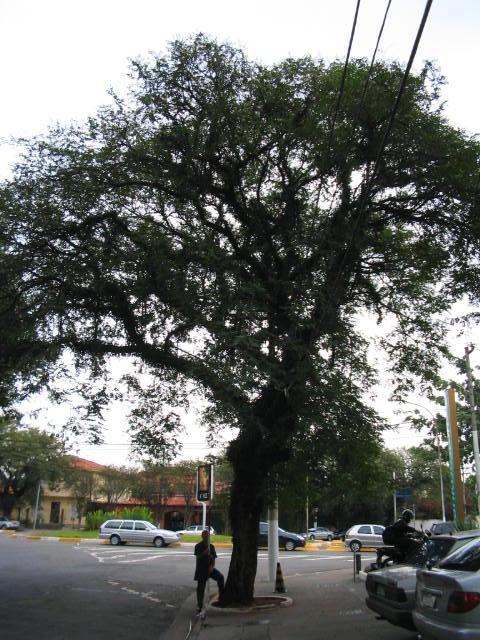crown: (5, 33, 477, 401)
stem: (216, 438, 292, 605)
stick: (197, 508, 214, 609)
tree: (1, 33, 478, 606)
